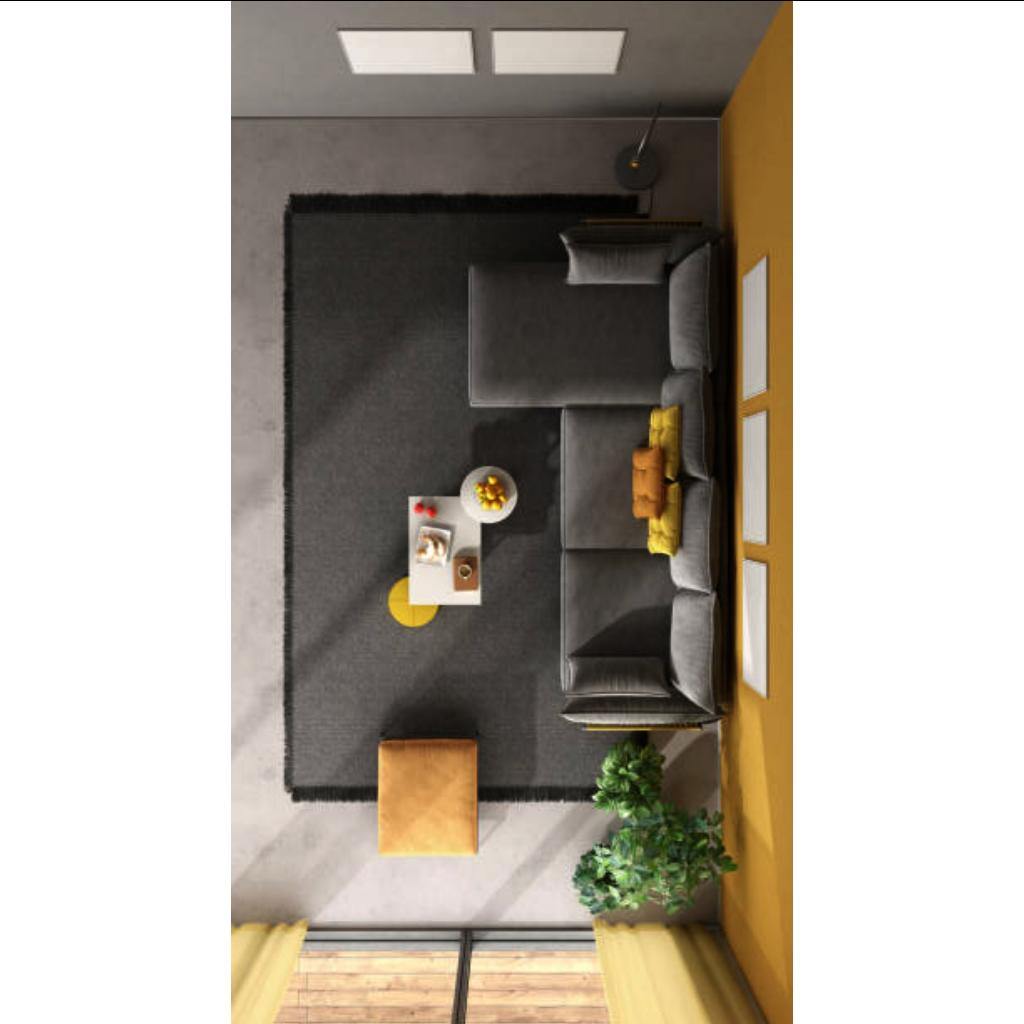coffee table: (387, 467, 517, 625)
floor lamp: (614, 144, 660, 186)
floor plant: (624, 806, 716, 906), (600, 738, 658, 804)
ottoman: (378, 734, 478, 856)
rug: (282, 190, 650, 802)
sofa: (560, 407, 732, 727), (467, 217, 731, 403)
window: (462, 1008, 764, 1024), (231, 1009, 459, 1023)
